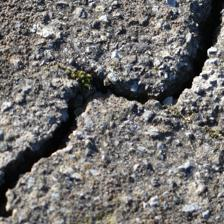Crack: (26, 51, 162, 163), (0, 81, 102, 140)
